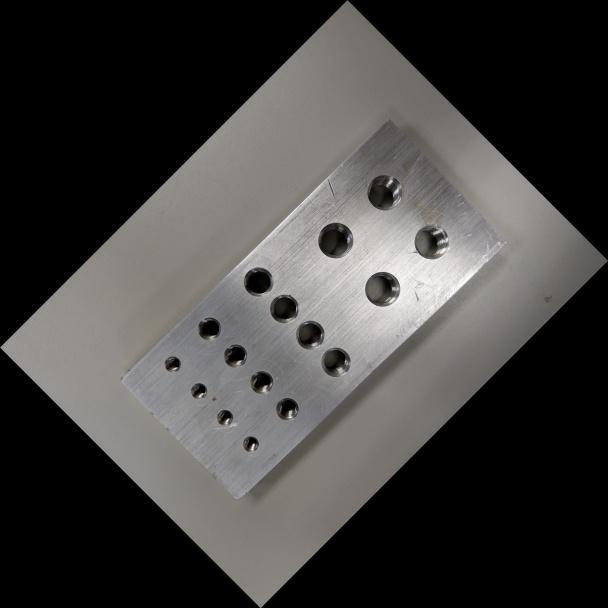hole: (308, 213, 362, 267), (358, 165, 411, 218), (405, 216, 458, 268), (356, 262, 408, 314), (236, 259, 280, 303), (314, 340, 357, 384), (288, 313, 331, 357), (262, 287, 306, 330), (243, 364, 279, 400), (191, 310, 227, 346), (269, 391, 304, 426), (217, 338, 252, 373), (159, 350, 185, 377), (212, 404, 237, 430), (186, 377, 211, 403), (238, 431, 263, 456)
